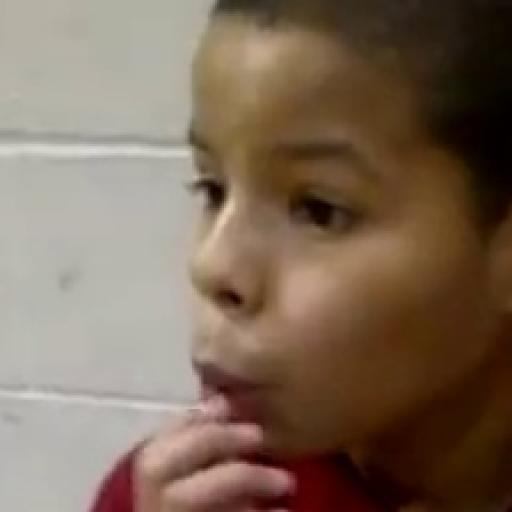Autism: (210, 25, 512, 512)
